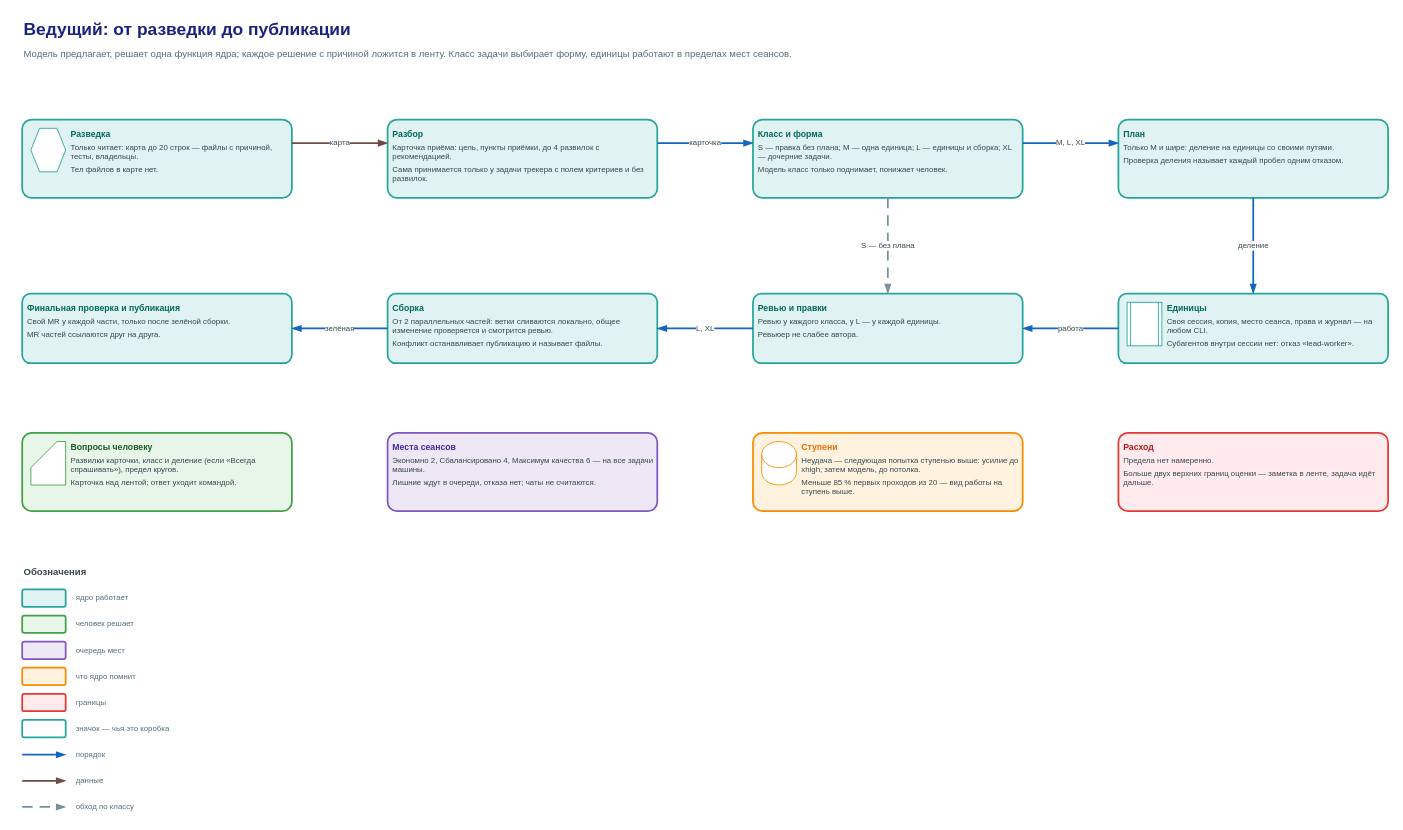
This 1403x830 diagram has some shape labels left out. The shapes that lost their labels are listed below. From the top down, each one's centre as x and y in pixels, then its label:
At point 48,149: "ядро".
At point 1144,323: "единица".
At point 48,463: "вы".
At point 778,463: "память".
